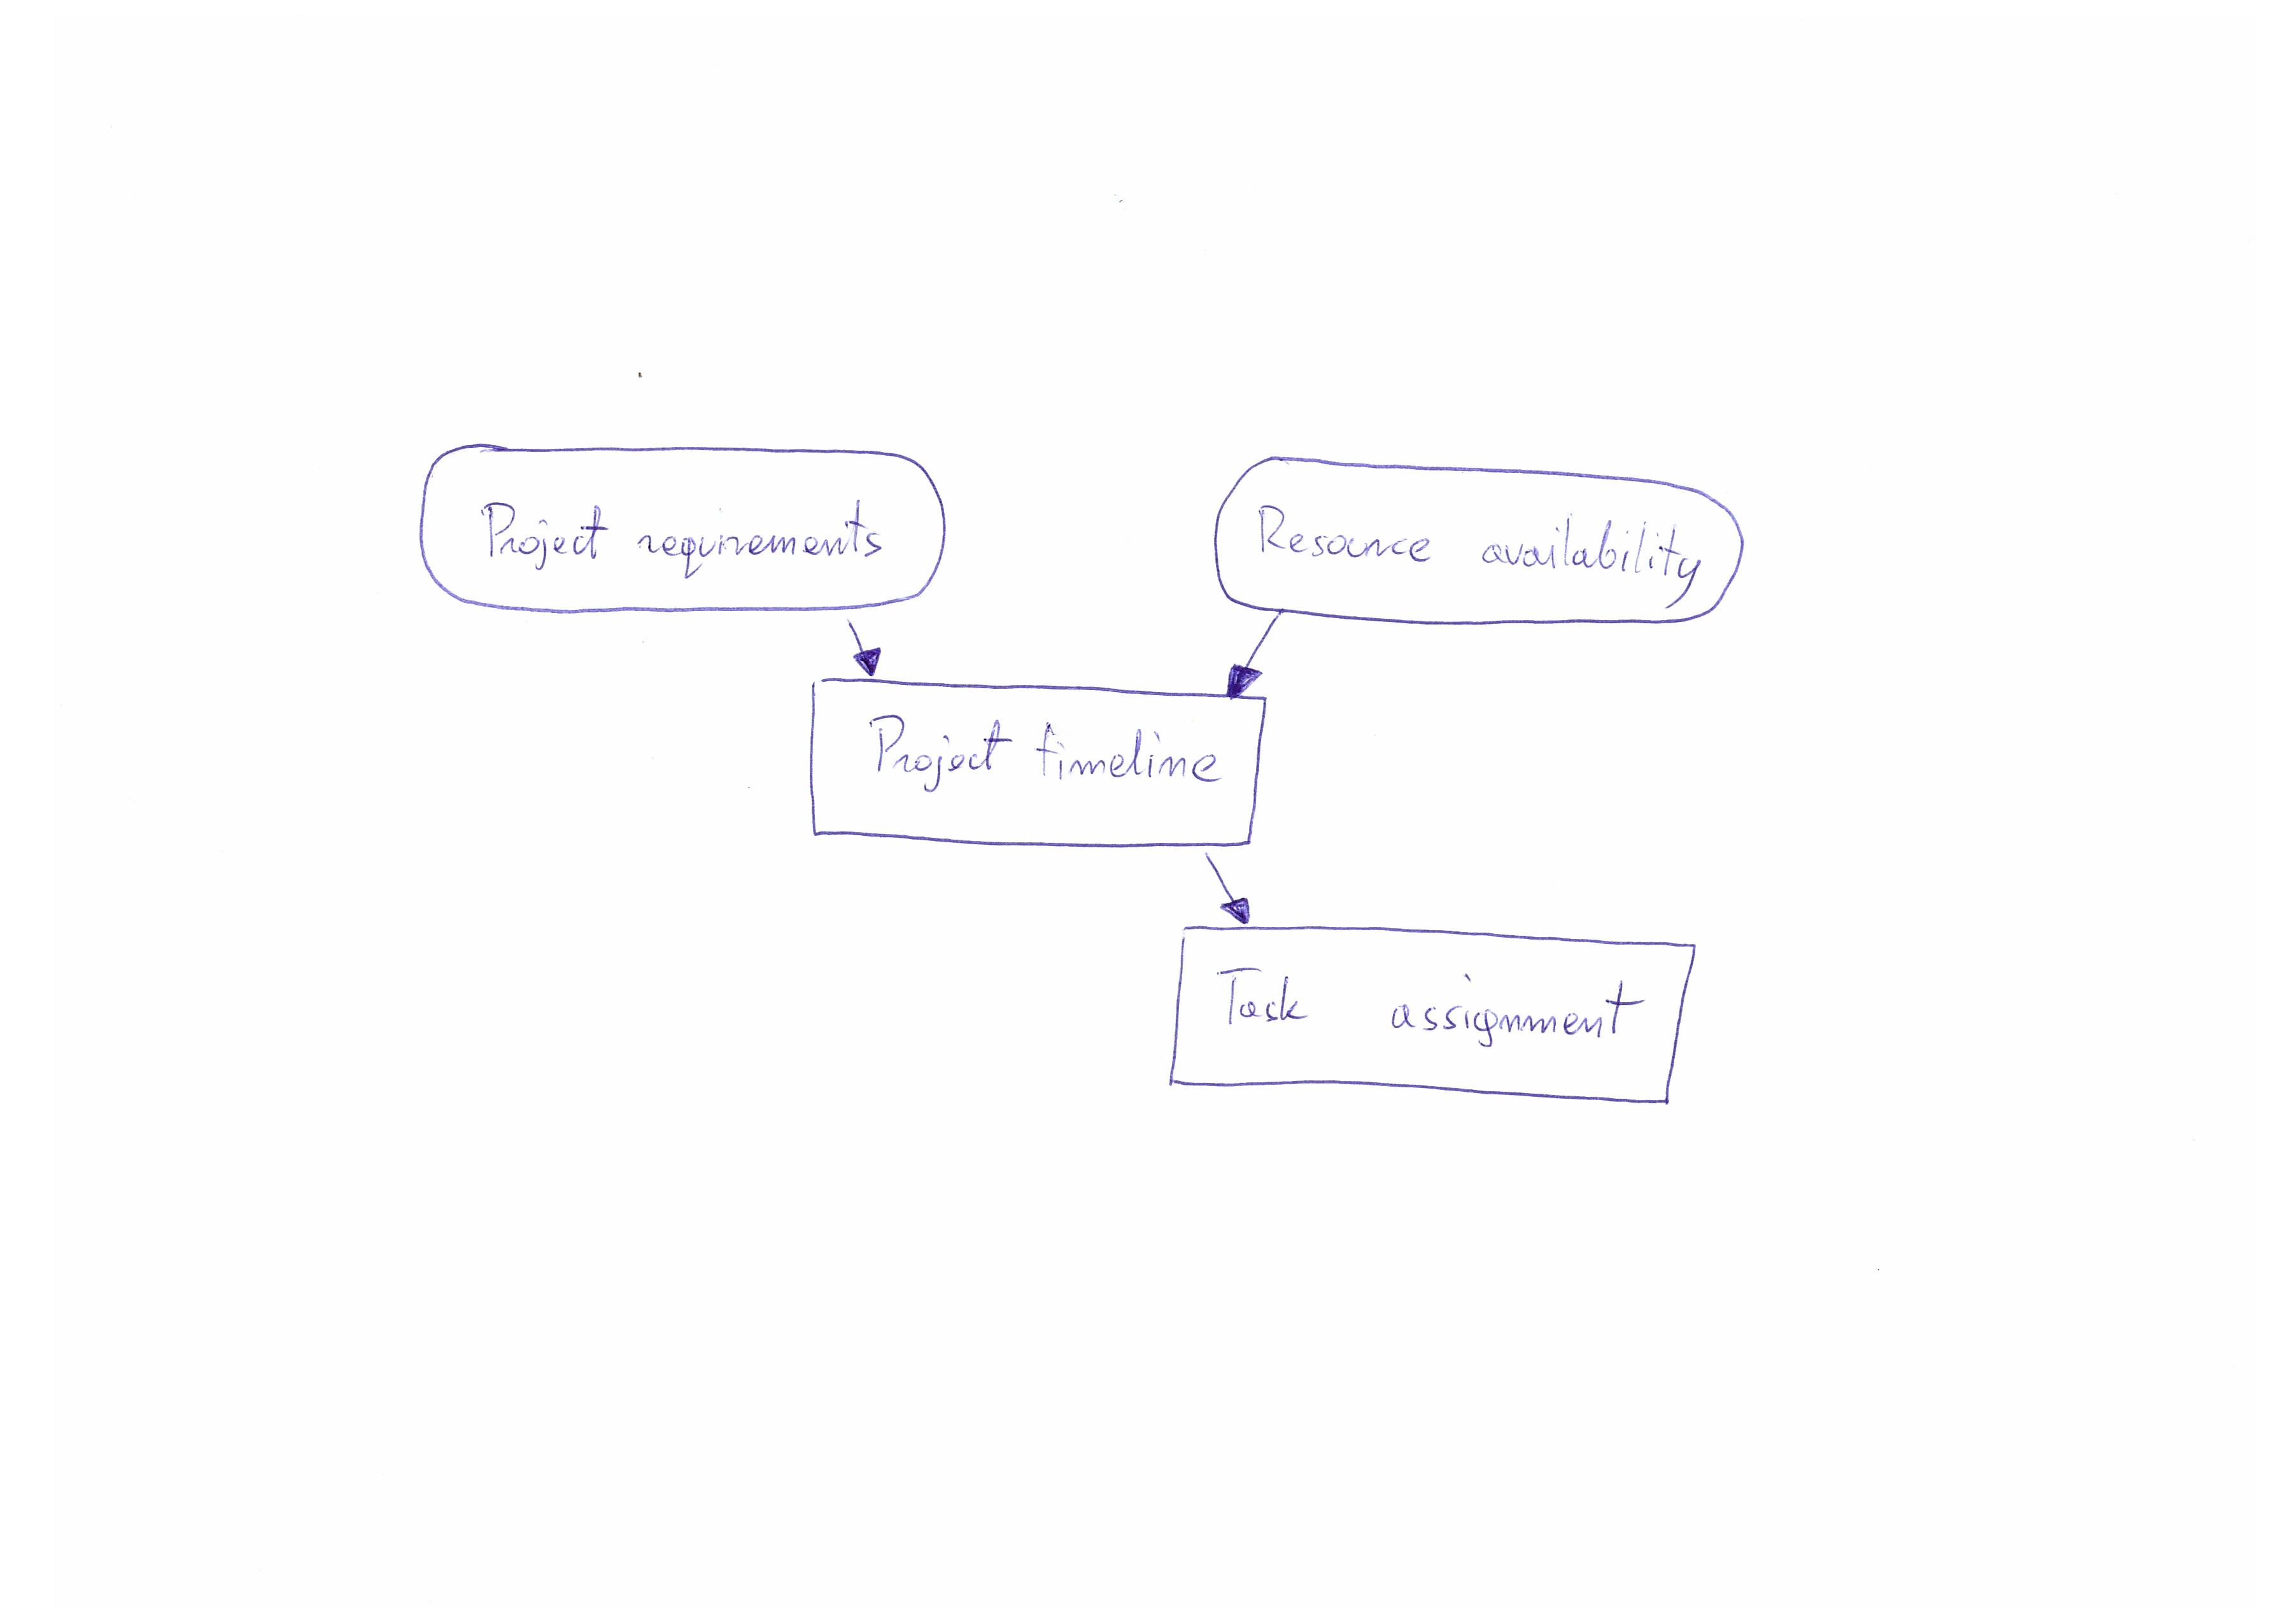arrow_information_requirement: (1211, 612, 1292, 700), (1183, 849, 1267, 924), (829, 612, 900, 677)
node_decision: (1160, 921, 1710, 1121), (805, 673, 1270, 854)
node_input_data: (1207, 445, 1748, 631), (409, 438, 947, 617)
text: (1249, 497, 1710, 613), (1207, 956, 1650, 1063), (471, 496, 907, 585), (865, 703, 1235, 803)
